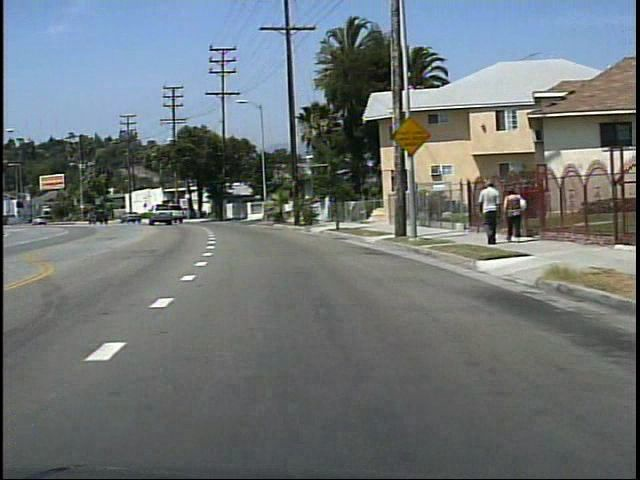person: (475, 177, 499, 246), (498, 185, 525, 244)
